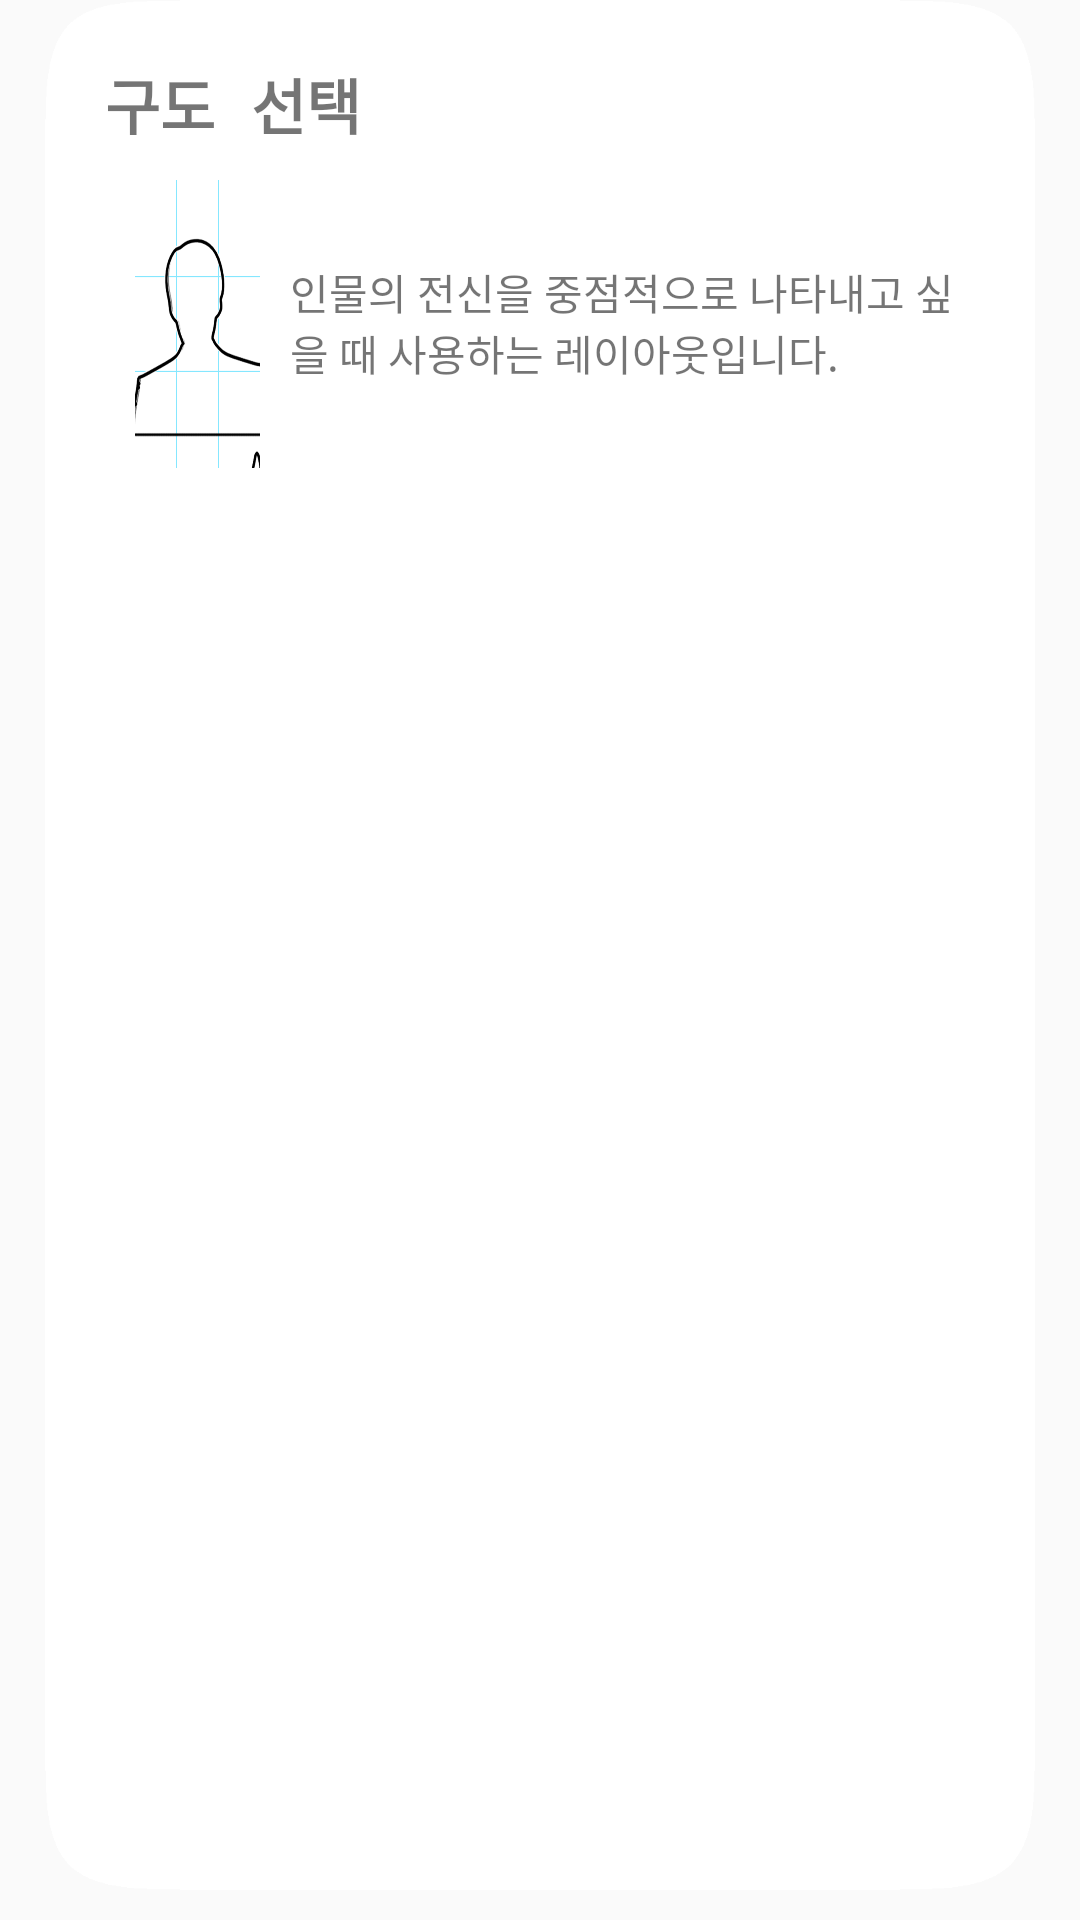

Screen size 1080px×1920px. Icon name, then its center in pixels as (x,y):
selfie structure: (197,324)
